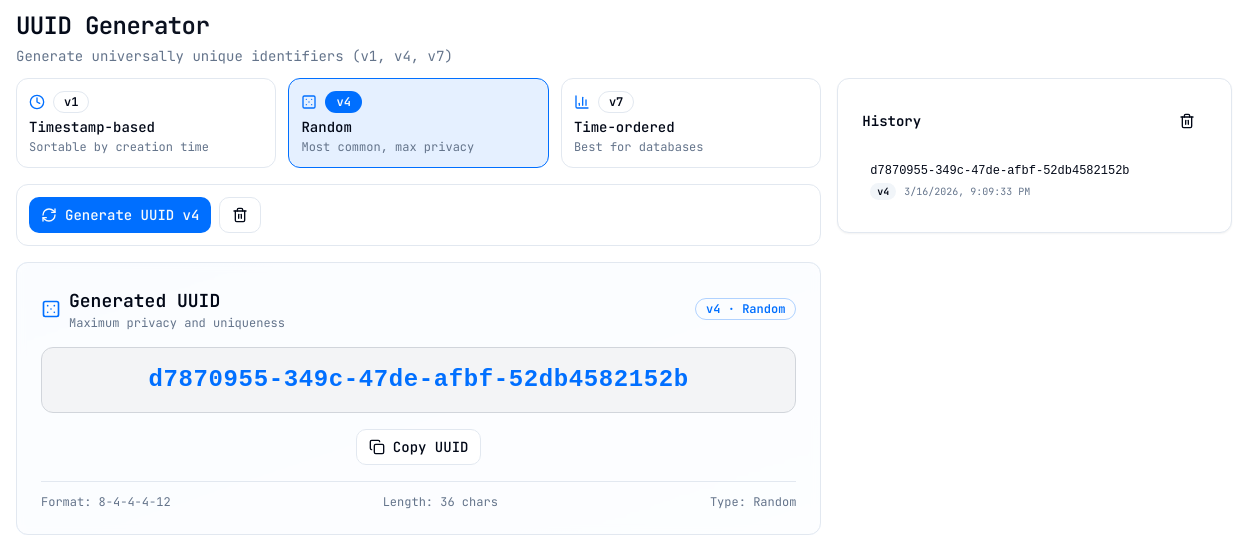
Scenario: UUIDPage › version selection › switches to v7 (Time-ordered)
Click the button with aria-label "Select UUID version 7".
click(616, 102)  # box [561,78,821,168]
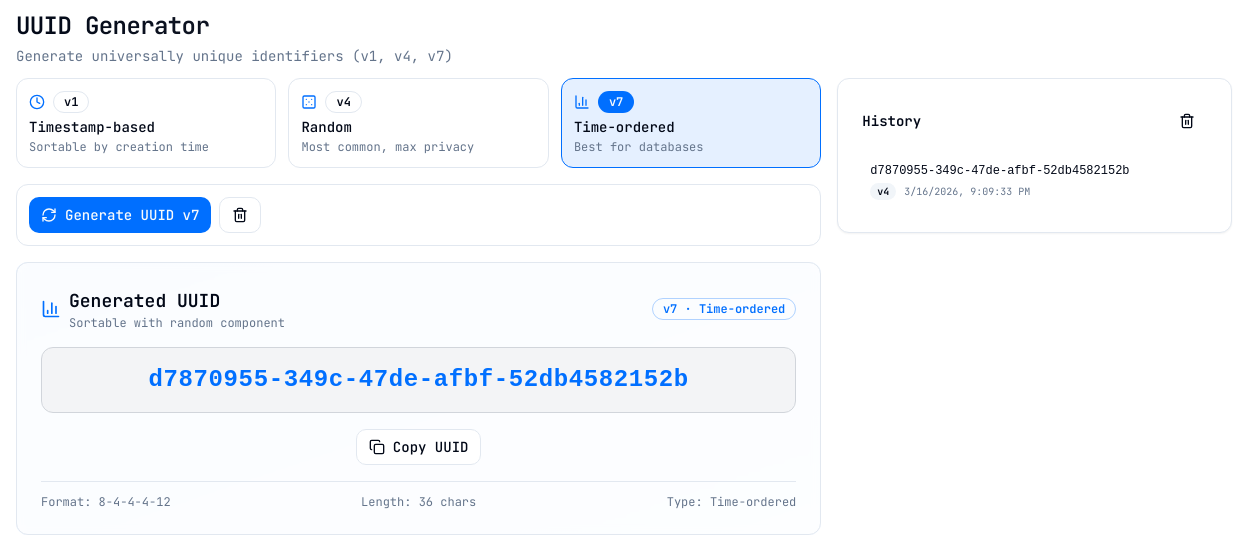
Result: the text "Type: Time-ordered" is shown at [667,494,796,510]
